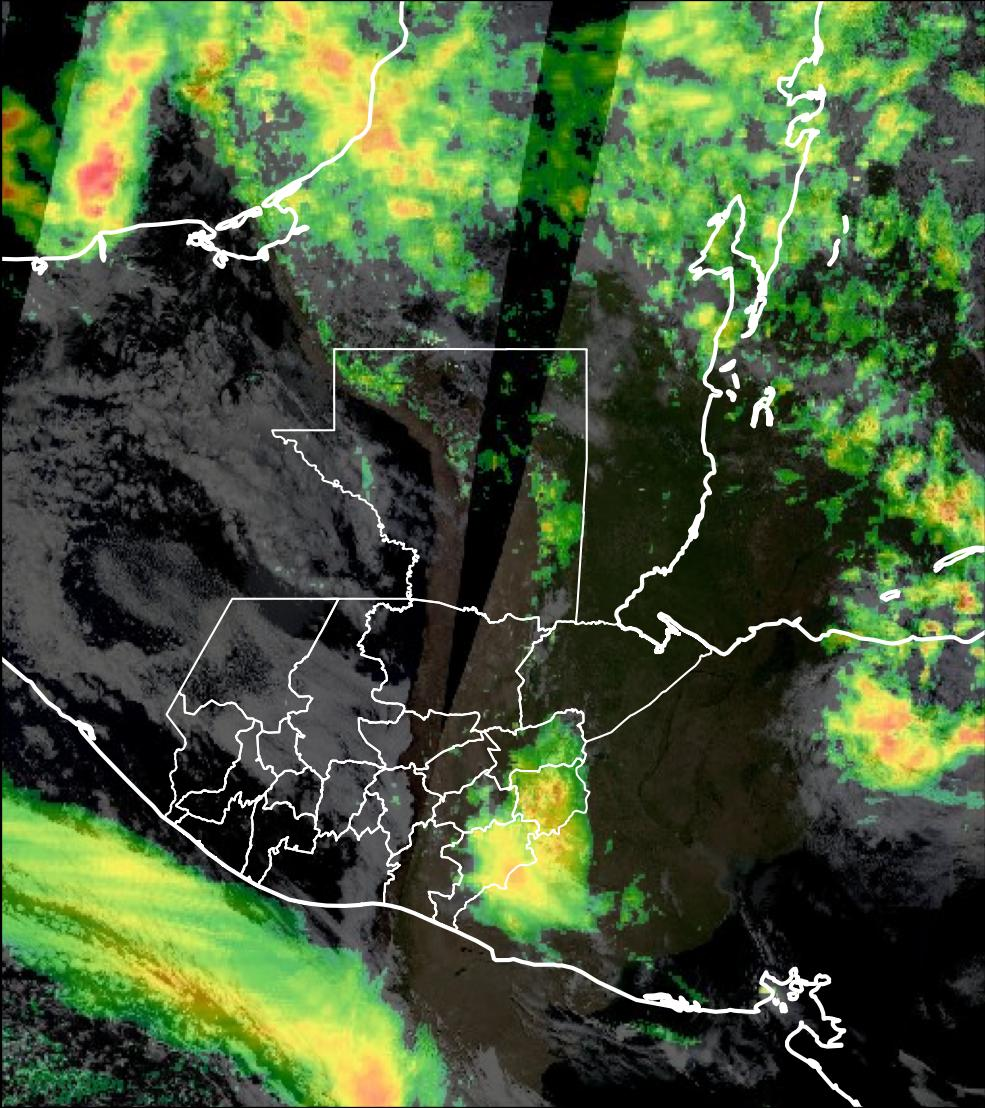precipitacion: (844, 689, 985, 799), (56, 140, 137, 230)
